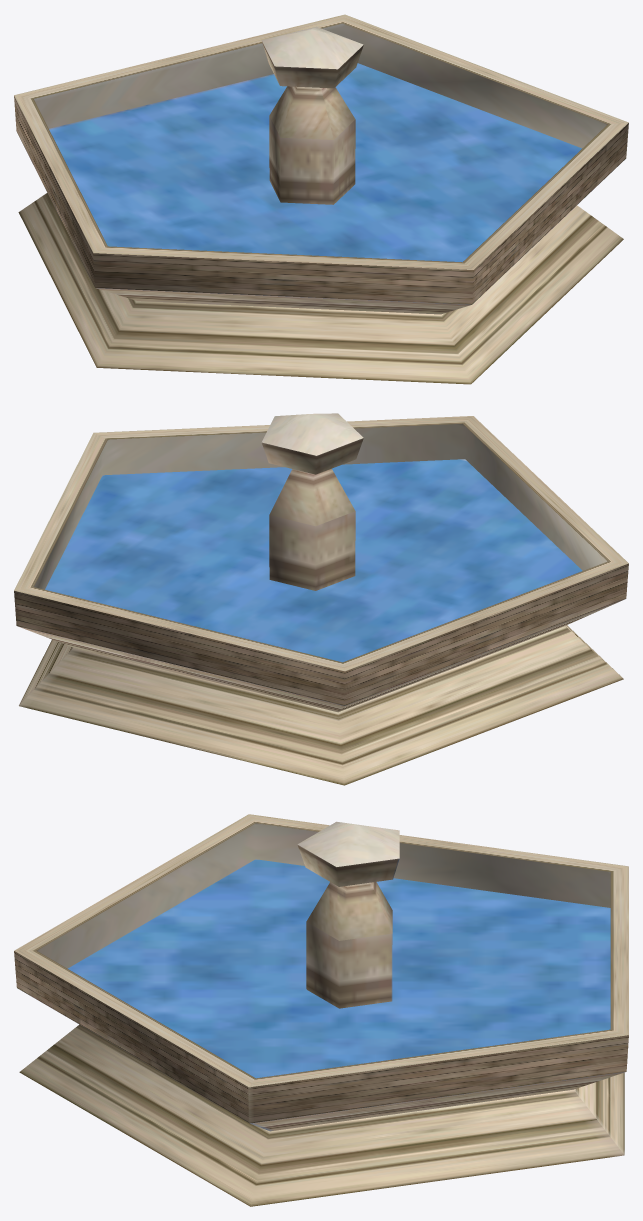
File: mun_all_imprv_fountain_sm_s01_l3.fbx
3 renders of one model, top to bottom at view 1: azimuth 30°, elevation 25°; view 2: azimuth 150°, elevation 25°; view 3: azimuth 270°, elevation 25°, orthographic. The views are drawn at different scales.
Parts seen in each view (by area): view 1: mesh_node; view 2: mesh_node; view 3: mesh_node.
Boxes of the visible parts, bbox=[...] form: mesh_node: bbox=[14, 14, 628, 384]; mesh_node: bbox=[14, 413, 628, 785]; mesh_node: bbox=[14, 814, 628, 1206].
Size of the model in its own units: 7.31 by 3.09 by 6.95.
